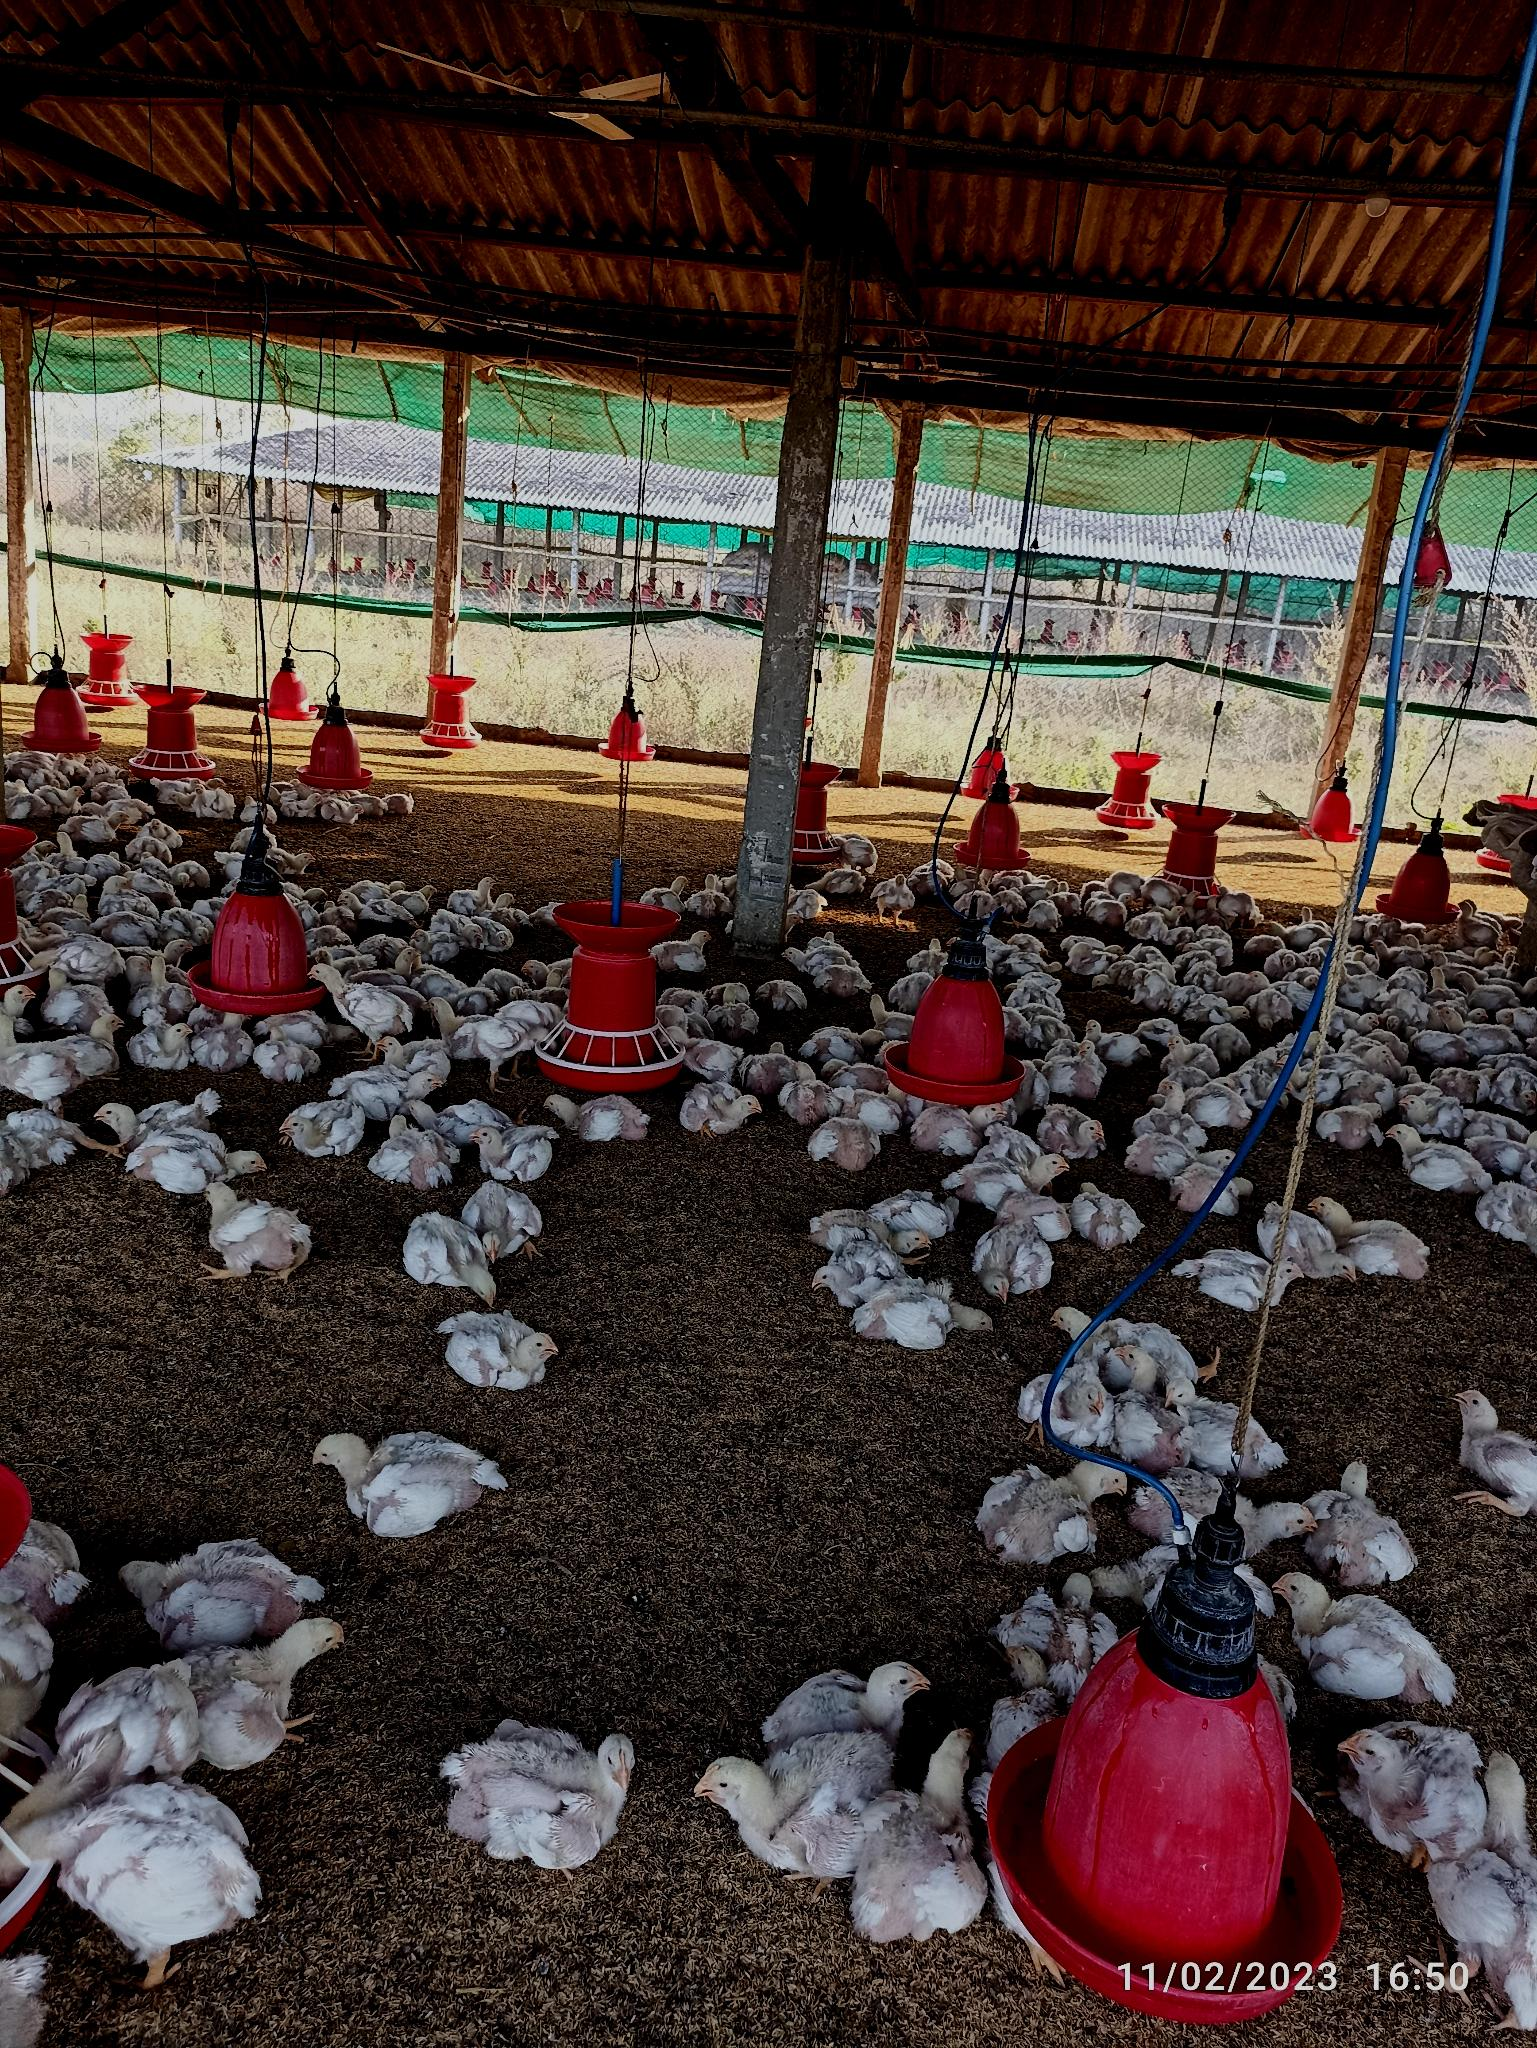Pollos: (1274, 1574, 1480, 1720), (450, 1714, 647, 1861), (699, 1748, 882, 1879), (1338, 1732, 1505, 1864), (321, 1427, 513, 1536), (113, 1530, 310, 1627), (765, 1661, 935, 1745), (1445, 1383, 1537, 1523), (977, 1461, 1120, 1549), (852, 1283, 1003, 1360), (195, 1177, 307, 1280), (431, 1309, 575, 1386), (400, 1209, 497, 1294), (534, 1088, 647, 1147), (668, 1086, 768, 1139)
